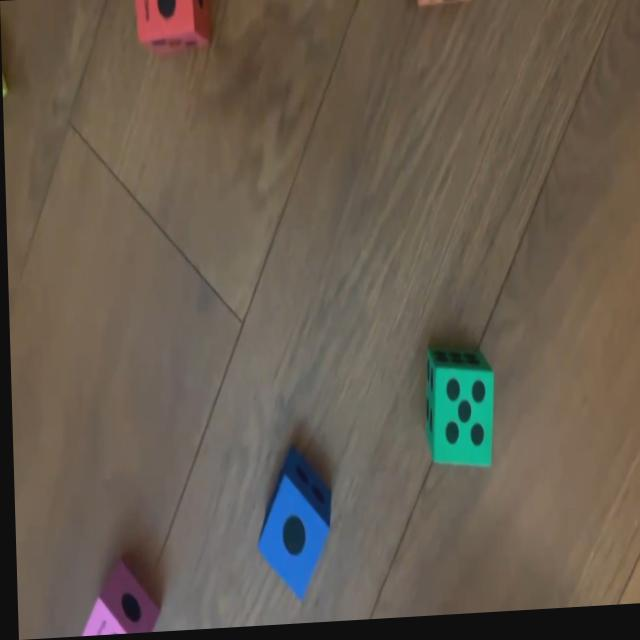blue_block: (253, 449, 330, 606)
red_block: (136, 0, 207, 54)
